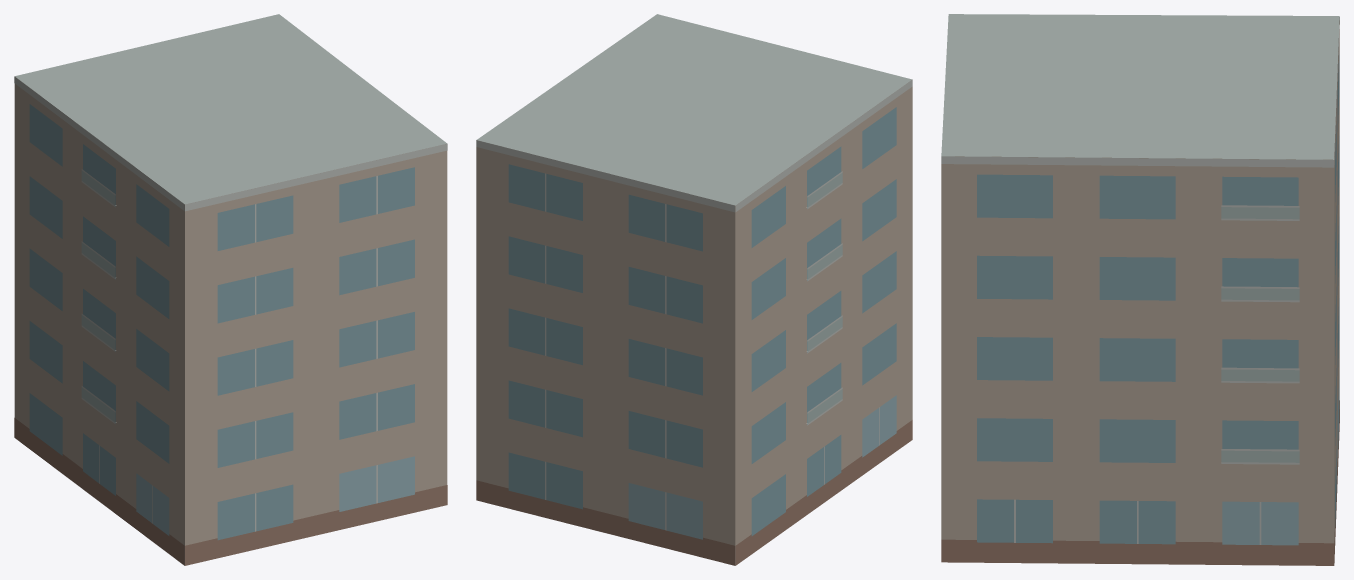
The model's file is survey-upis-32730916.glb.
The picture shows the model from 3 angles, left to right: view 1: azimuth 30°, elevation 25°; view 2: azimuth 150°, elevation 25°; view 3: azimuth 270°, elevation 25°; orthographic projection. The views are drawn at different scales.
Parts seen in each view (by area): view 1: survey-upis-32730916.tmp; view 2: survey-upis-32730916.tmp; view 3: survey-upis-32730916.tmp.
Boxes of the visible parts, left/top/right/bottom form: survey-upis-32730916.tmp: left=14, top=14, right=447, bottom=565; survey-upis-32730916.tmp: left=476, top=14, right=912, bottom=565; survey-upis-32730916.tmp: left=941, top=14, right=1339, bottom=565.
Bounding box in the file's own units: 9.8 × 12.7 × 11.3.
